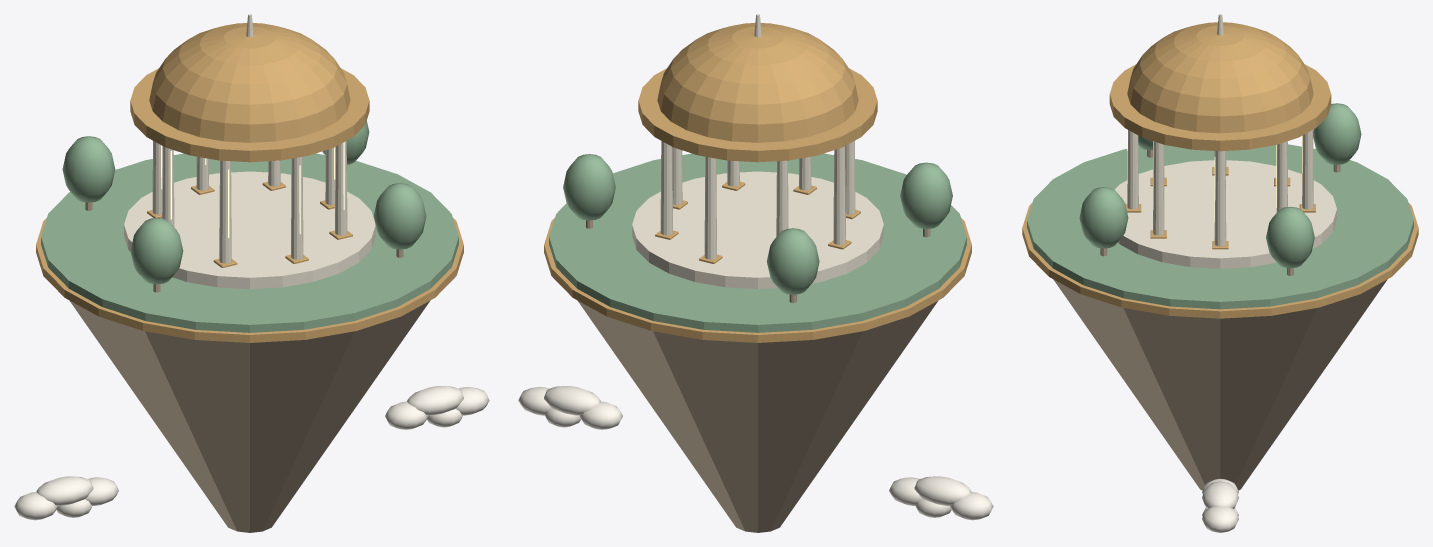
The model's file is div3_cloud_island_complete.glb.
3 views of the same model, side by side, from view 1: azimuth 30°, elevation 25°; view 2: azimuth 150°, elevation 25°; view 3: azimuth 270°, elevation 25° (orthographic). The views are drawn at different scales.
Parts seen in each view (by area): view 1: div3_cloud_island_complete__sage-foliage, div3_cloud_island_complete__floating-sandstone, div3_cloud_island_complete__satin-honey-brass, div3_cloud_island_complete__porcelain-ivory, div3_cloud_island_complete__cloud-cream, div3_cloud_island_complete__warm-luminous; view 2: div3_cloud_island_complete__sage-foliage, div3_cloud_island_complete__floating-sandstone, div3_cloud_island_complete__satin-honey-brass, div3_cloud_island_complete__porcelain-ivory, div3_cloud_island_complete__cloud-cream; view 3: div3_cloud_island_complete__sage-foliage, div3_cloud_island_complete__floating-sandstone, div3_cloud_island_complete__satin-honey-brass, div3_cloud_island_complete__porcelain-ivory, div3_cloud_island_complete__cloud-cream.
Boxes of the visible parts, x1,y1,x2,y2 form: div3_cloud_island_complete__sage-foliage: (41, 120, 458, 332); div3_cloud_island_complete__floating-sandstone: (69, 202, 430, 532); div3_cloud_island_complete__satin-honey-brass: (36, 23, 463, 342); div3_cloud_island_complete__porcelain-ivory: (124, 14, 375, 289); div3_cloud_island_complete__cloud-cream: (14, 386, 489, 520); div3_cloud_island_complete__warm-luminous: (161, 142, 344, 237); div3_cloud_island_complete__sage-foliage: (549, 153, 966, 332); div3_cloud_island_complete__floating-sandstone: (577, 220, 938, 532); div3_cloud_island_complete__satin-honey-brass: (544, 23, 971, 342); div3_cloud_island_complete__porcelain-ivory: (632, 14, 883, 289); div3_cloud_island_complete__cloud-cream: (518, 386, 993, 520); div3_cloud_island_complete__sage-foliage: (1027, 103, 1413, 309); div3_cloud_island_complete__floating-sandstone: (1053, 149, 1387, 490); div3_cloud_island_complete__satin-honey-brass: (1022, 22, 1418, 318); div3_cloud_island_complete__porcelain-ivory: (1114, 14, 1336, 268); div3_cloud_island_complete__cloud-cream: (1202, 478, 1238, 532).
Size of the model in its own units: 43.2 by 44.5 by 34.
